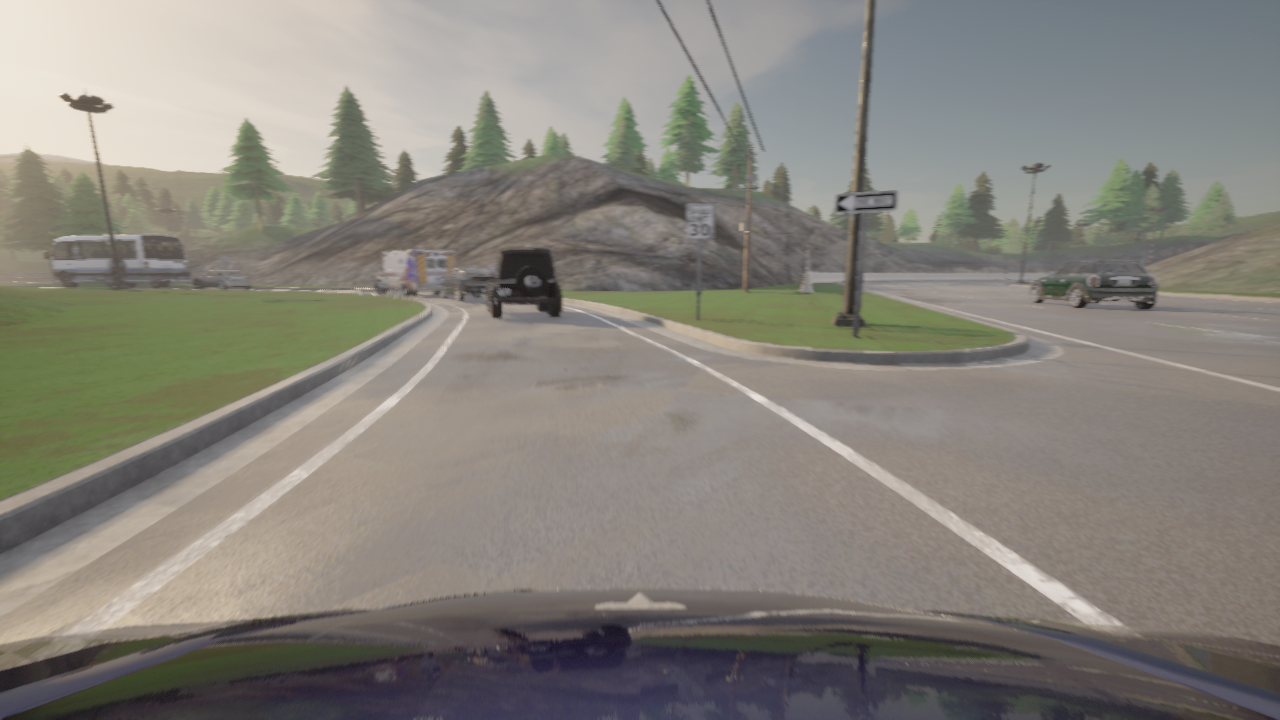cyclist: (0, 588, 1279, 719), (43, 234, 190, 288), (1029, 258, 1157, 309), (485, 248, 561, 318), (373, 249, 455, 296), (439, 267, 494, 302), (193, 270, 251, 289)
